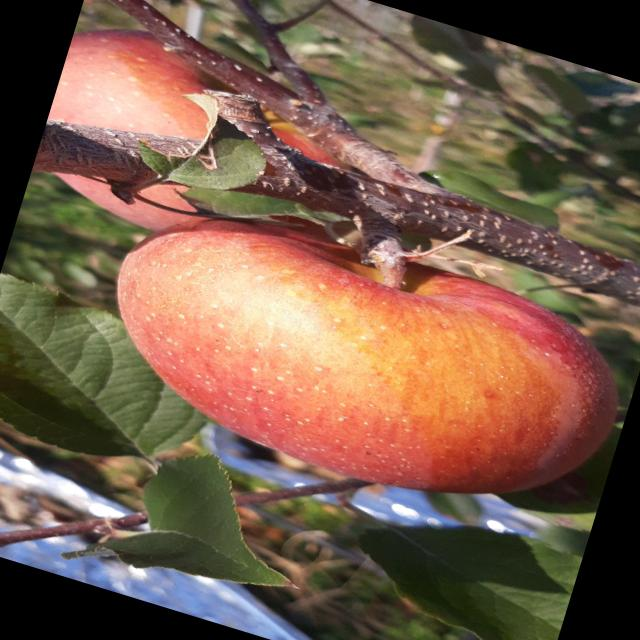fresh: (58, 161, 636, 550)
